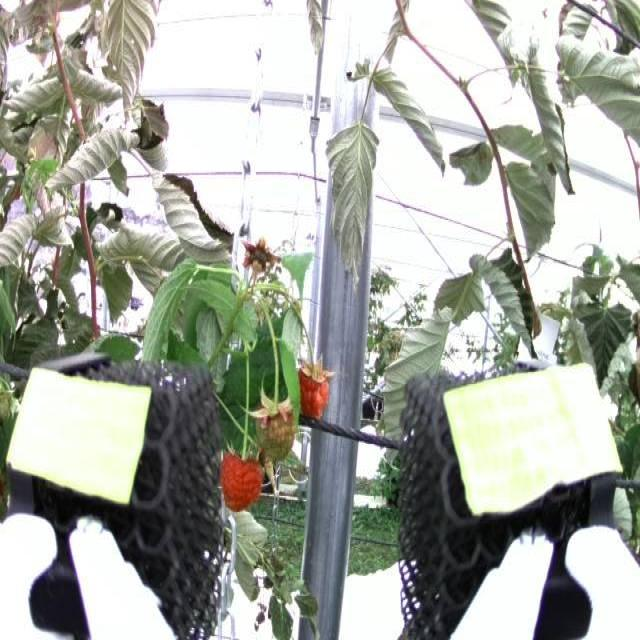Riped berries: (293, 356, 338, 428), (220, 445, 265, 513)
